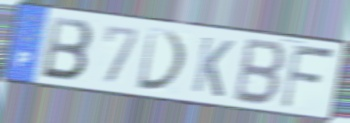7: (101, 22, 141, 87)
B: (230, 35, 290, 109), (39, 14, 95, 84)
D: (135, 26, 190, 93)
F: (278, 41, 337, 112)
K: (189, 34, 236, 100)
